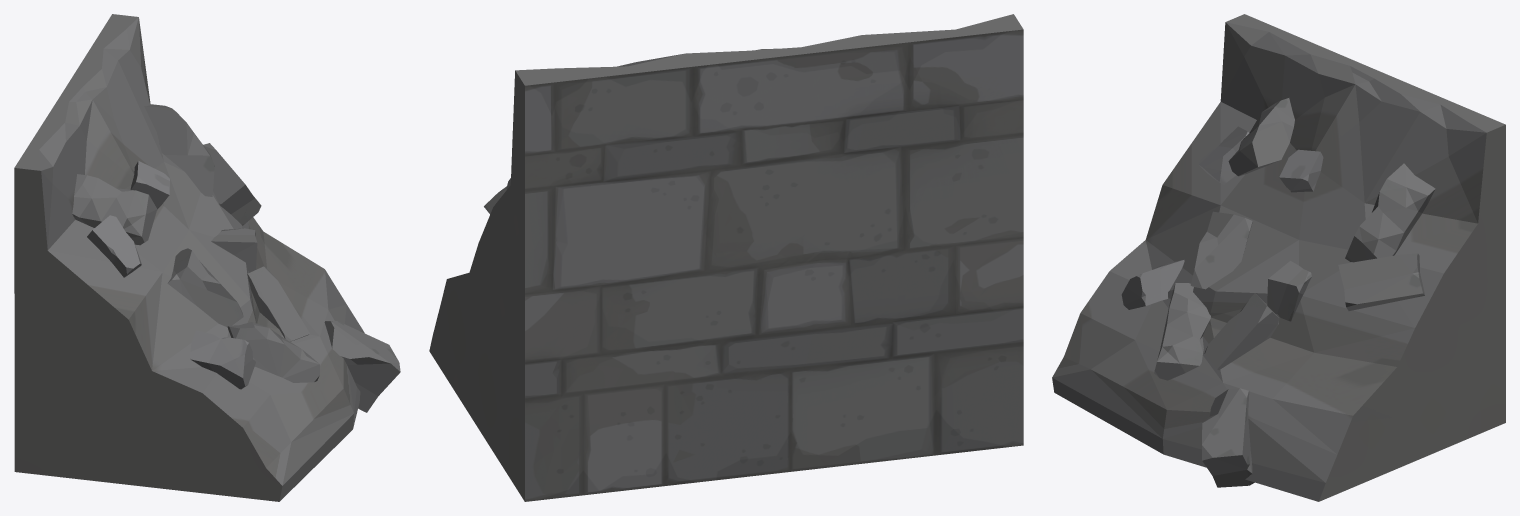
File: SM_Bld_45_Wall_L_Rubble_01.fbx
The picture shows the model from 3 angles, left to right: view 1: azimuth 30°, elevation 25°; view 2: azimuth 150°, elevation 25°; view 3: azimuth 270°, elevation 25°; orthographic projection. The views are drawn at different scales.
Visible parts, largest first — view 1: SM_Bld_45_Wall_L_Rubble_01; view 2: SM_Bld_45_Wall_L_Rubble_01; view 3: SM_Bld_45_Wall_L_Rubble_01.
Boxes of the visible parts, x1,y1,x2,y2 form: SM_Bld_45_Wall_L_Rubble_01: (14,14,400,501); SM_Bld_45_Wall_L_Rubble_01: (429,14,1023,501); SM_Bld_45_Wall_L_Rubble_01: (1052,14,1505,501).
Size of the model in its own units: 820 by 628 by 829.
Materials: 1 (1 with a texture image).
